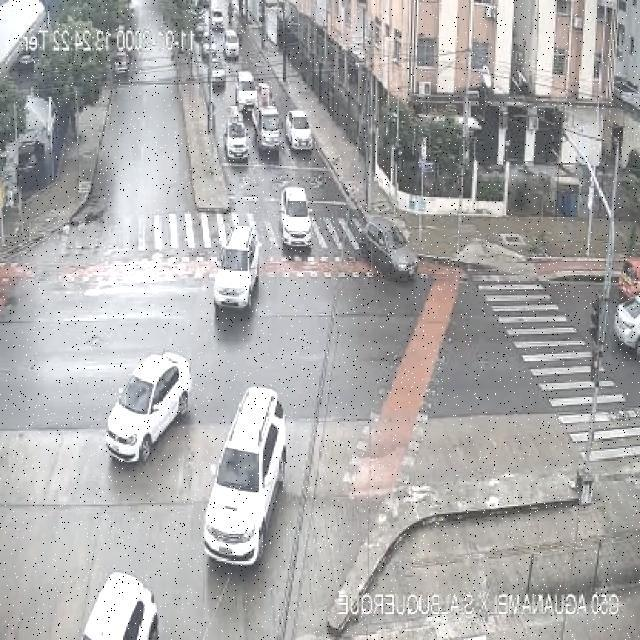Car: (195, 383, 288, 567), (105, 351, 192, 465), (83, 573, 159, 640), (214, 226, 263, 310), (363, 214, 417, 278), (280, 188, 314, 250), (615, 296, 640, 354), (284, 110, 314, 149), (236, 69, 258, 108), (206, 58, 226, 86)
Truck: (250, 82, 282, 150), (225, 106, 249, 160)
Van: (223, 29, 240, 61)
